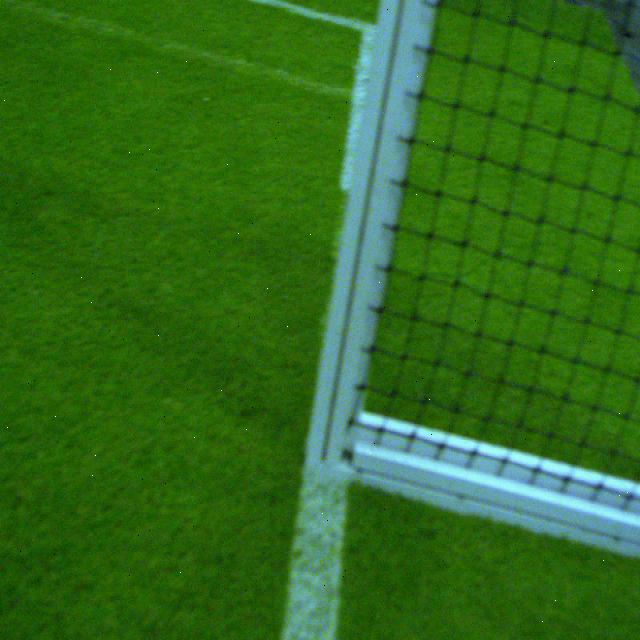goalpost: (302, 0, 433, 480)
